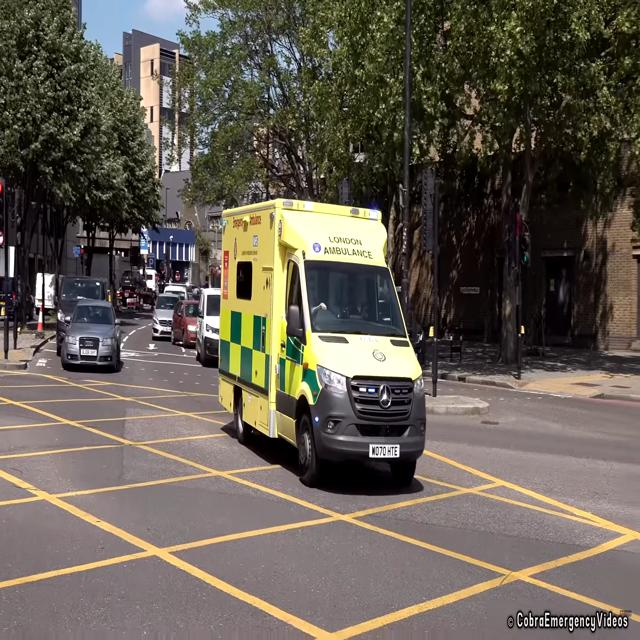emergency-vehicles: (212, 194, 433, 498)
